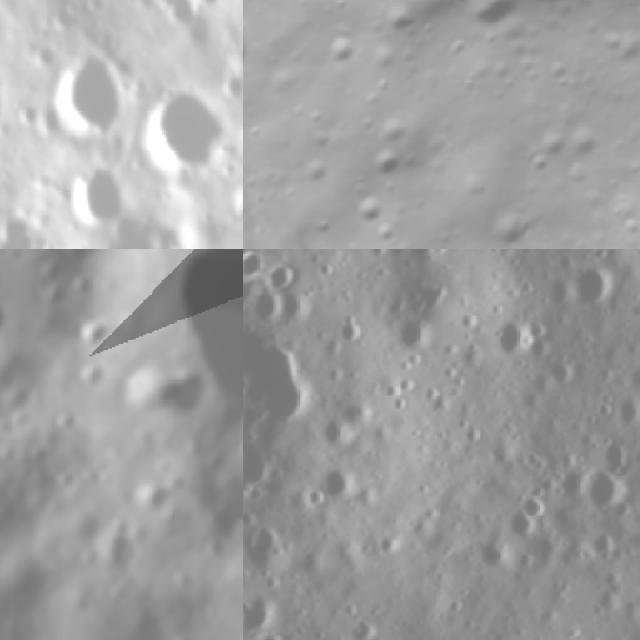crater: (101, 326, 221, 444), (41, 43, 135, 150), (139, 77, 228, 190), (56, 286, 130, 361), (65, 156, 133, 236), (558, 256, 622, 320), (453, 0, 533, 47), (572, 462, 631, 524), (243, 511, 293, 584), (542, 451, 598, 509), (63, 343, 119, 399), (385, 306, 441, 362), (268, 284, 322, 342), (366, 132, 420, 188), (465, 527, 521, 579), (483, 312, 532, 371), (243, 0, 270, 103), (36, 249, 122, 280), (310, 462, 363, 512), (260, 249, 307, 302), (487, 203, 541, 249), (41, 398, 89, 446), (0, 212, 62, 249), (243, 284, 286, 335), (243, 583, 279, 640), (0, 52, 22, 145), (495, 502, 541, 546), (593, 435, 637, 481), (327, 306, 369, 352), (0, 278, 22, 352), (336, 607, 384, 640), (514, 489, 554, 528), (162, 0, 225, 22), (226, 164, 242, 233), (247, 620, 293, 640), (283, 249, 337, 263), (0, 515, 11, 569), (232, 399, 243, 442)
